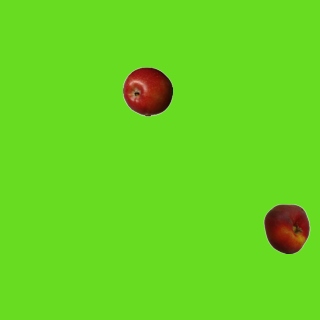Apple Braeburn: (122, 66, 172, 116)
Nectarine Flat: (261, 203, 311, 253)
